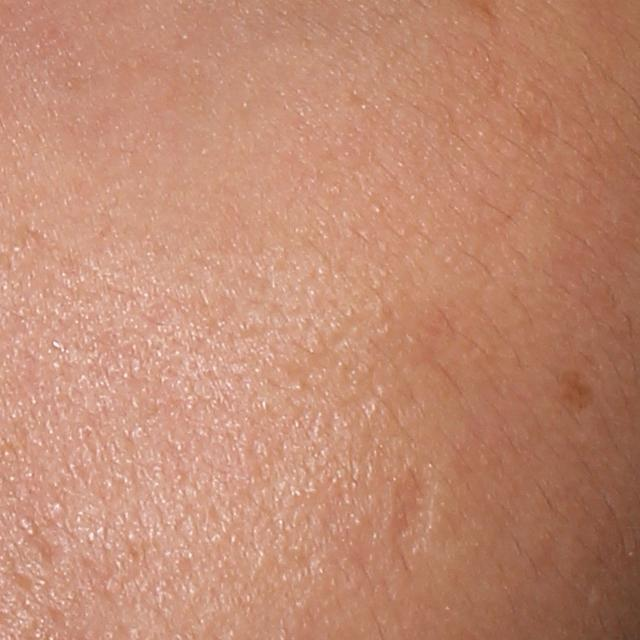atrophic_scar: (390, 452, 445, 569)
melasma: (555, 367, 596, 412)
